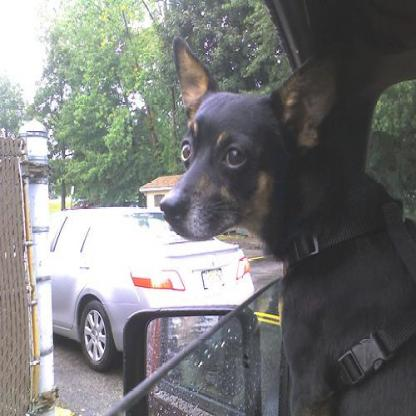miniature_pinscher: (158, 35, 414, 414)
